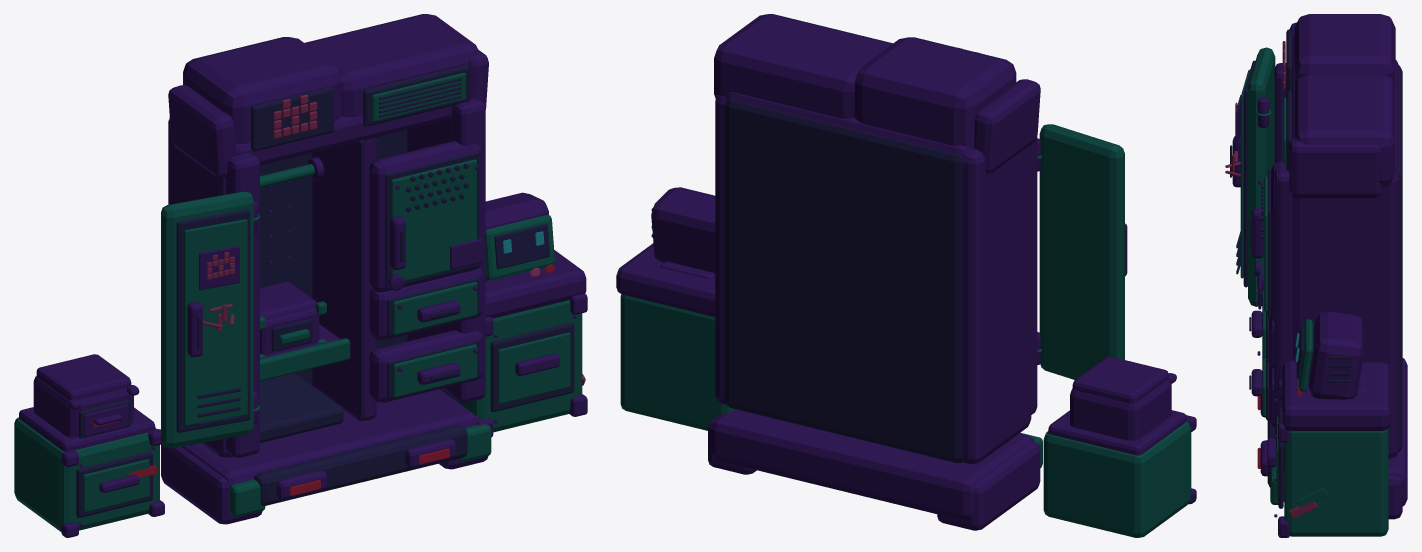
The model's file is prp_base_locker_station_visual_top3d_v004.glb.
The picture shows the model from 3 angles, left to right: view 1: azimuth 30°, elevation 25°; view 2: azimuth 150°, elevation 25°; view 3: azimuth 270°, elevation 25°; orthographic projection. The views are drawn at different scales.
Parts seen in each view (by area): view 1: 赛博储物站_主体_金属哑光反光, 赛博储物站_UI灯光_柔和自发光; view 2: 赛博储物站_主体_金属哑光反光; view 3: 赛博储物站_主体_金属哑光反光, 赛博储物站_UI灯光_柔和自发光.
Boxes of the visible parts, box(x1,y1,x2,y2) form: 赛博储物站_主体_金属哑光反光: box(14, 14, 587, 537); 赛博储物站_UI灯光_柔和自发光: box(94, 231, 554, 495); 赛博储物站_主体_金属哑光反光: box(616, 14, 1196, 537); 赛博储物站_主体_金属哑光反光: box(1225, 14, 1407, 537); 赛博储物站_UI灯光_柔和自发光: box(1257, 333, 1302, 468).
Size of the model in its own units: 5 by 3.9 by 1.62.
Materials: 4 (4 with a texture image).
